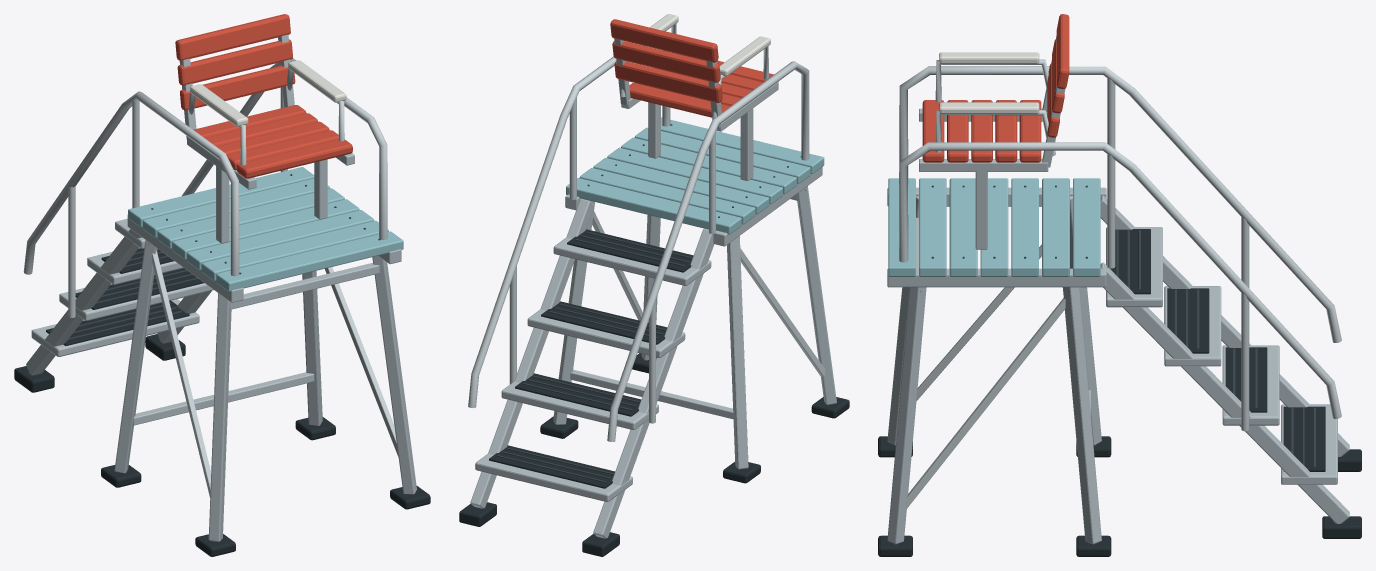
The model's file is city-lifeguard-observation-chair.glb.
The picture shows the model from 3 angles, left to right: view 1: azimuth 30°, elevation 25°; view 2: azimuth 150°, elevation 25°; view 3: azimuth 270°, elevation 25°; orthographic projection. The views are drawn at different scales.
Visible parts, largest first — view 1: Assembly | Soft anodized aluminum, Assembly | Pale blue walking surface, Assembly | Warm coral molded polymer, Assembly | Satin stainless steel, Assembly | Charcoal rubber and traction strips, Assembly | Warm white molded polymer, Assembly | Graphite mechanical fittings; view 2: Assembly | Soft anodized aluminum, Assembly | Pale blue walking surface, Assembly | Satin stainless steel, Assembly | Charcoal rubber and traction strips, Assembly | Warm coral molded polymer, Assembly | Graphite mechanical fittings, Assembly | Warm white molded polymer; view 3: Assembly | Soft anodized aluminum, Assembly | Satin stainless steel, Assembly | Pale blue walking surface, Assembly | Charcoal rubber and traction strips, Assembly | Warm coral molded polymer, Assembly | Warm white molded polymer, Assembly | Graphite mechanical fittings.
Part boxes in pixels (x1,y1,x2,y2): Assembly | Soft anodized aluminum: [26, 34, 416, 541]; Assembly | Pale blue walking surface: [128, 167, 403, 291]; Assembly | Warm coral molded polymer: [175, 14, 352, 178]; Assembly | Satin stainless steel: [23, 58, 398, 497]; Assembly | Charcoal rubber and traction strips: [14, 248, 430, 556]; Assembly | Warm white molded polymer: [190, 60, 346, 126]; Assembly | Graphite mechanical fittings: [68, 174, 380, 340]; Assembly | Soft anodized aluminum: [470, 38, 836, 538]; Assembly | Pale blue walking surface: [566, 117, 824, 234]; Assembly | Satin stainless steel: [468, 23, 824, 441]; Assembly | Charcoal rubber and traction strips: [459, 229, 849, 556]; Assembly | Warm coral molded polymer: [610, 19, 773, 117]; Assembly | Graphite mechanical fittings: [497, 124, 805, 482]; Assembly | Warm white molded polymer: [630, 14, 770, 76]; Assembly | Soft anodized aluminum: [887, 35, 1349, 544]; Assembly | Satin stainless steel: [899, 59, 1341, 509]; Assembly | Pale blue walking surface: [888, 178, 1100, 276]; Assembly | Charcoal rubber and traction strips: [878, 229, 1361, 556]; Assembly | Warm coral molded polymer: [922, 14, 1069, 162]; Assembly | Warm white molded polymer: [939, 52, 1039, 114]; Assembly | Graphite mechanical fittings: [920, 185, 1315, 467].
Size of the model in its own units: 1.14 by 2.18 by 2.08.
